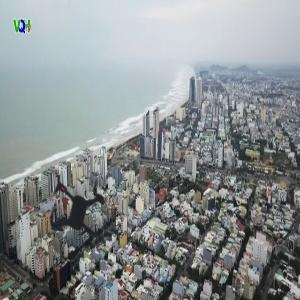drone: (9, 139, 153, 283)
